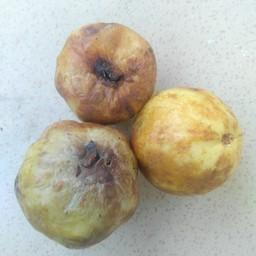Bad_guava: (14, 119, 140, 253), (52, 21, 161, 125), (137, 84, 239, 195)
